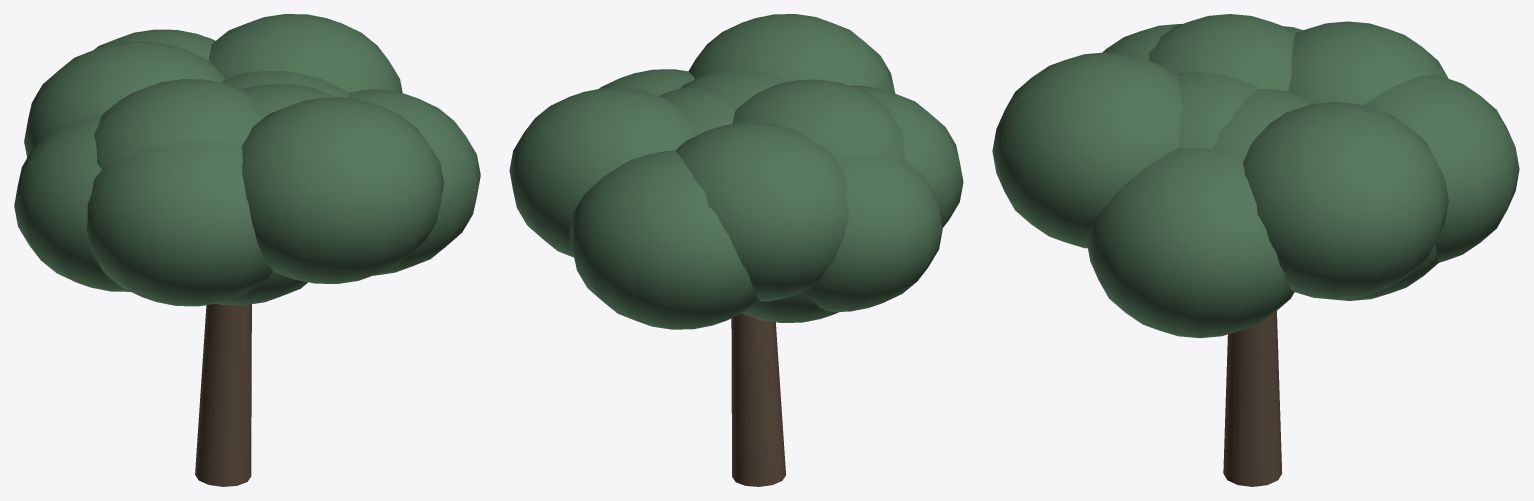
The model's file is tree.glb.
3 views of the same model, side by side, from view 1: azimuth 30°, elevation 25°; view 2: azimuth 150°, elevation 25°; view 3: azimuth 270°, elevation 25° (orthographic). The views are drawn at different scales.
Size of the model in its own units: 3.67 by 3.53 by 3.94.
